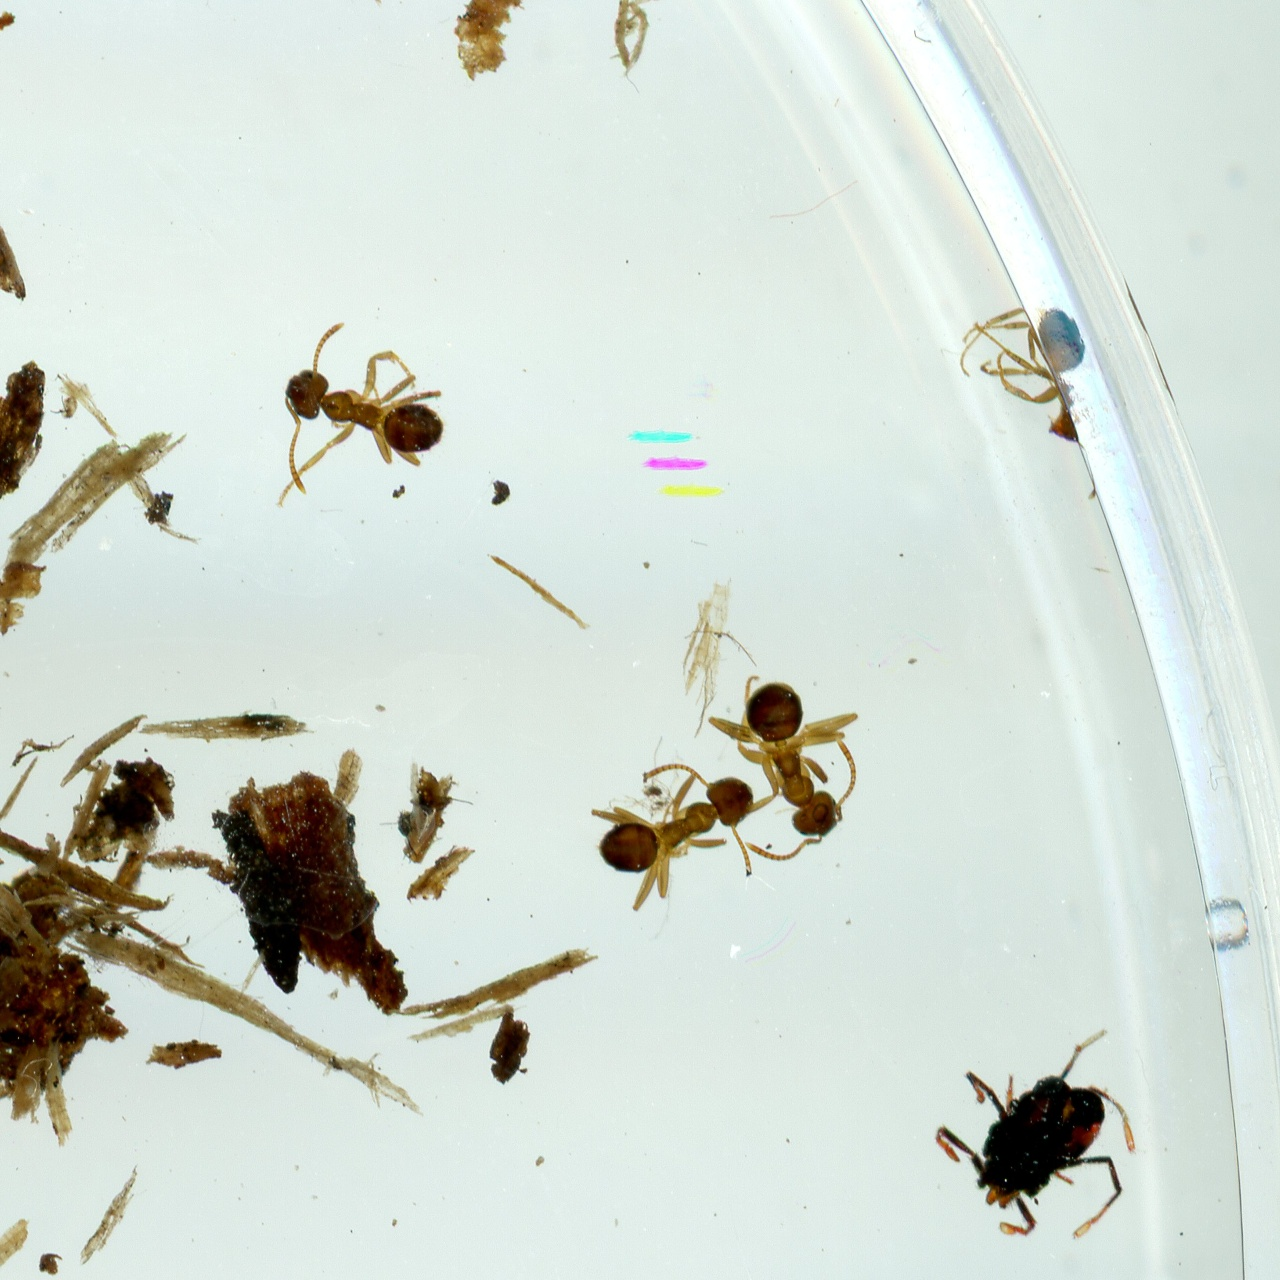arthropod: (930, 1023, 1142, 1246), (946, 290, 1126, 524), (701, 656, 883, 873), (270, 319, 449, 512), (587, 761, 757, 913), (49, 394, 80, 420)
